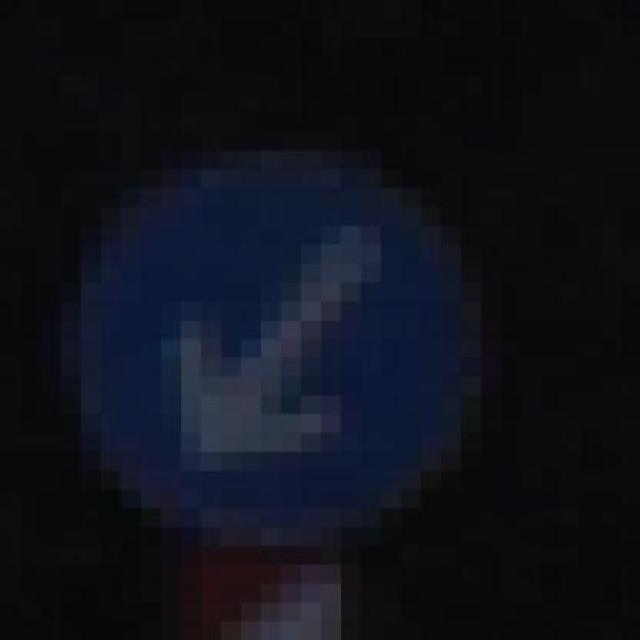Keep-Left: (100, 132, 500, 566)
